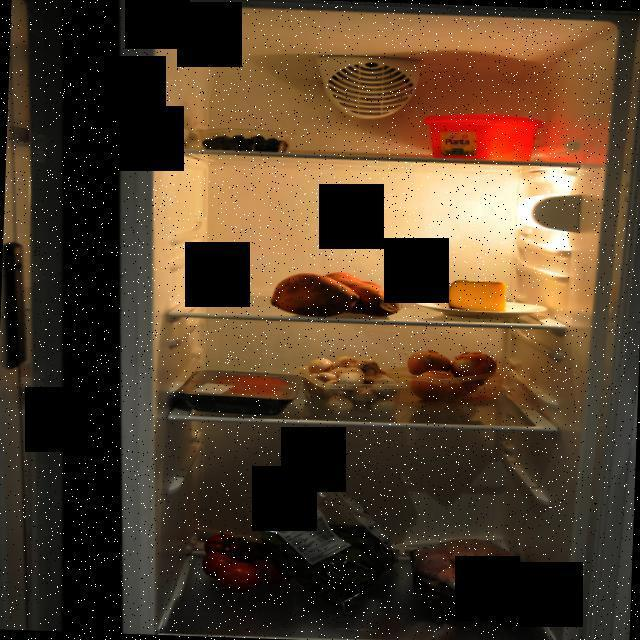beef: (203, 368, 289, 406)
blueberries: (194, 125, 295, 152)
butter: (423, 112, 551, 162)
cheese: (444, 276, 512, 316)
chicken: (406, 534, 535, 616)
mushrooms: (296, 354, 410, 422)
onion: (404, 347, 494, 402)
spinach: (240, 498, 402, 612)
sweet_potato: (264, 266, 407, 324)
tomato: (200, 524, 300, 594)
